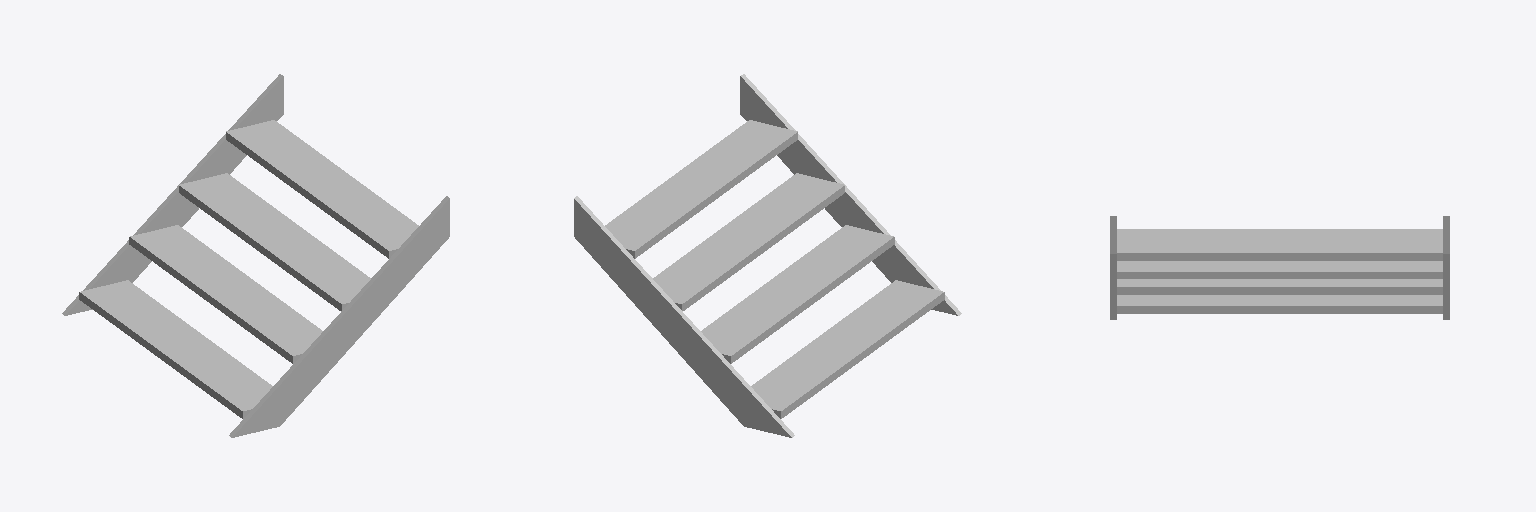
The model's file is DockStairs.obj.
3 renders of one model, left to right at view 1: azimuth 30°, elevation 25°; view 2: azimuth 150°, elevation 25°; view 3: azimuth 270°, elevation 25°, orthographic.
Visible parts, largest first — view 1: DockStairs; view 2: DockStairs; view 3: DockStairs.
Part boxes in pixels (x1,y1,x2,y2): DockStairs: (62, 74, 449, 437); DockStairs: (574, 74, 961, 437); DockStairs: (1110, 216, 1449, 319).
Bounding box in the file's own units: 35.99 × 29.46 × 48.55.